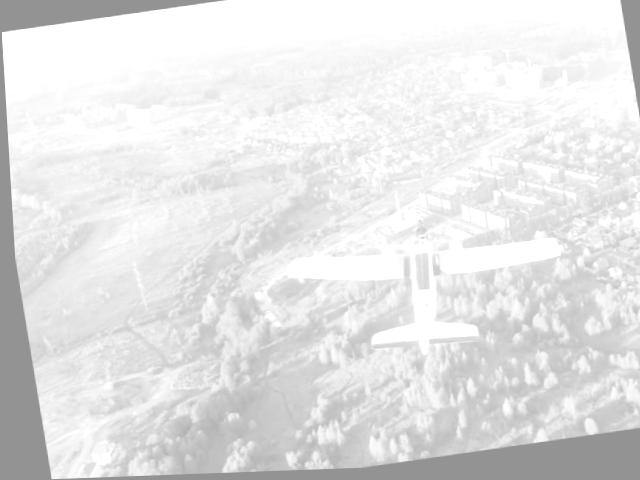hedef: (278, 201, 578, 387)
